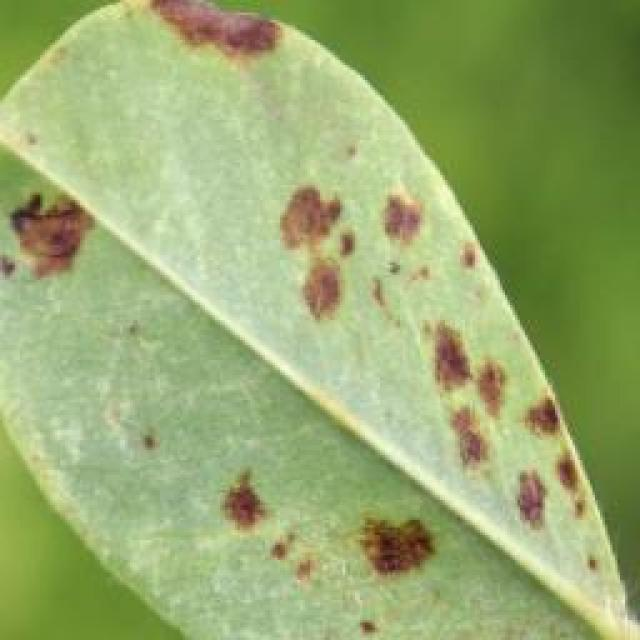Whitefly: (0, 0, 596, 628)
